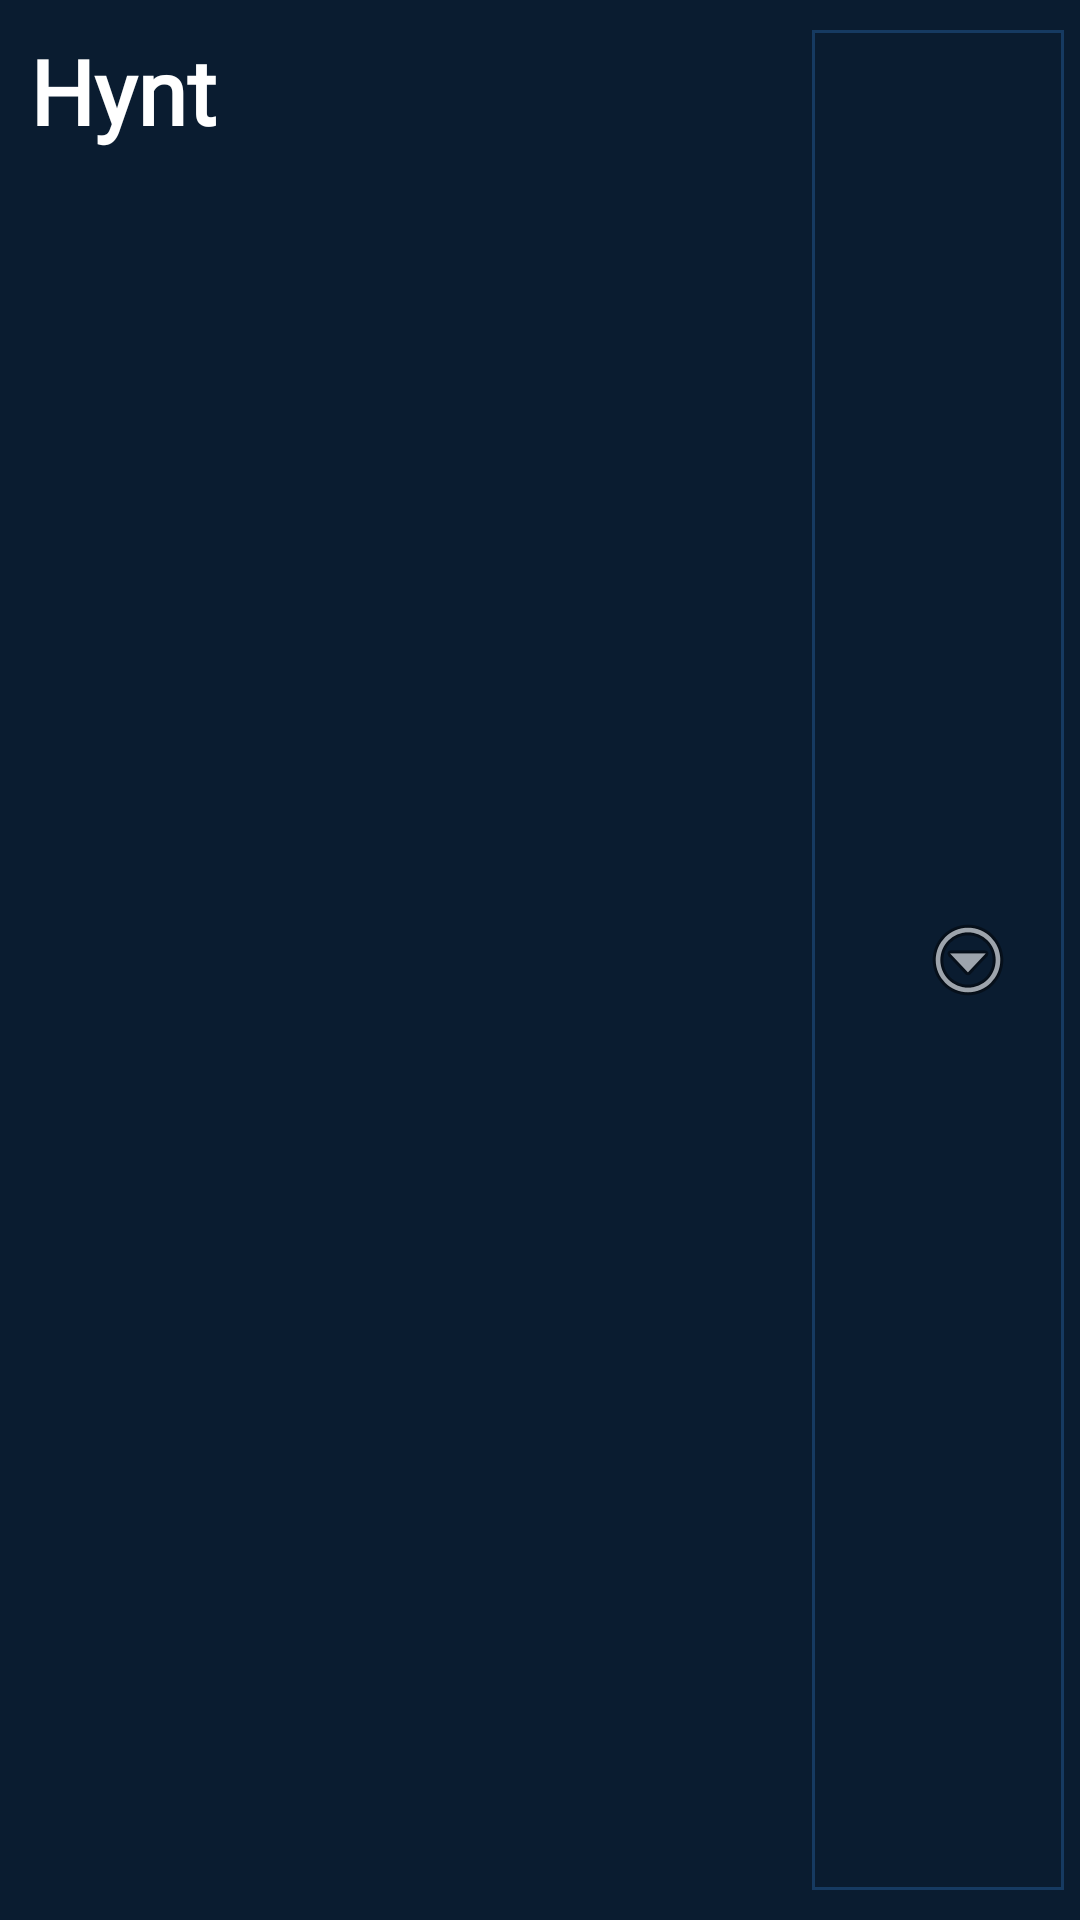

Point at icon controls on the screen. Image size 1080 x 1920, points as [x,y].
more: [968,960]
